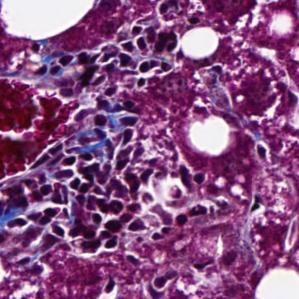inflammation: (124, 201, 223, 240), (4, 202, 72, 246), (93, 42, 175, 78), (96, 41, 174, 78), (94, 127, 141, 170)
